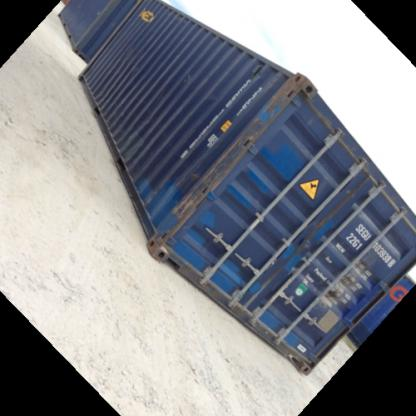Damage: (172, 141, 242, 218), (119, 110, 168, 157), (264, 82, 300, 114), (114, 43, 136, 69)
